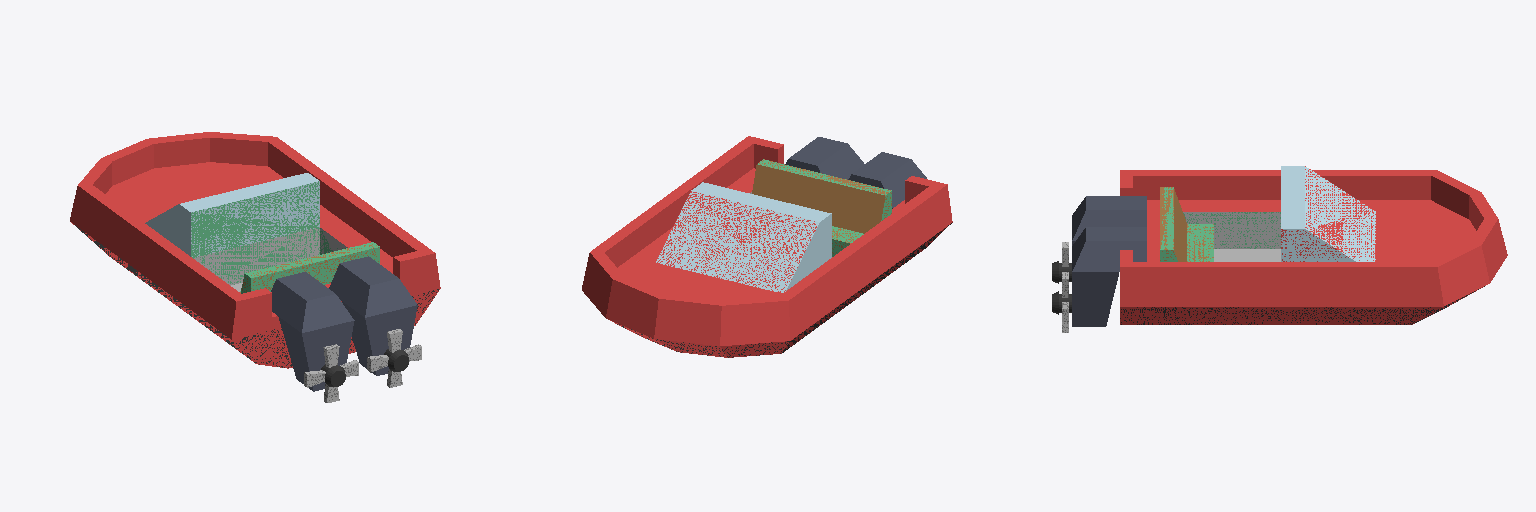
Rendered from boat_011.obj.
The picture shows the model from 3 angles: view 1: azimuth 30°, elevation 25°; view 2: azimuth 150°, elevation 25°; view 3: azimuth 270°, elevation 25°; orthographic projection.
Visible parts, largest first — view 1: boat_011, Group; view 2: boat_011, Group; view 3: boat_011, Group.
Boxes of the visible parts, box(x1,y1,x2,y2) form: boat_011: box(70, 132, 440, 368); Group: box(271, 256, 421, 402); boat_011: box(582, 136, 952, 357); Group: box(785, 137, 926, 208); boat_011: box(1120, 166, 1507, 324); Group: box(1052, 196, 1146, 332).
Size of the model in its own units: 1.78 by 0.9571 by 3.37.